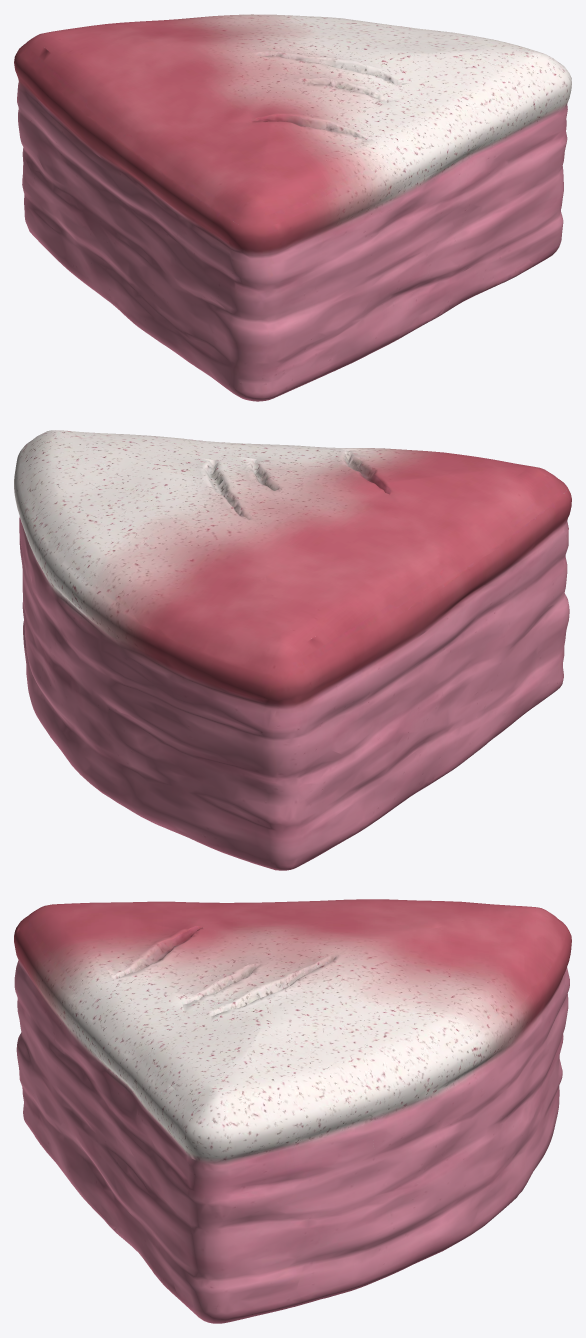
File: scone--beet-fresh.glb
The picture shows the model from 3 angles, top to bottom: view 1: azimuth 30°, elevation 25°; view 2: azimuth 150°, elevation 25°; view 3: azimuth 270°, elevation 25°; orthographic projection. The views are drawn at different scales.
Visible parts, largest first — view 1: scone_beet-fresh; view 2: scone_beet-fresh; view 3: scone_beet-fresh.
Part boxes in pixels (box(x1,y1,x2,y2)): scone_beet-fresh: box(14, 14, 571, 401); scone_beet-fresh: box(14, 430, 571, 870); scone_beet-fresh: box(14, 899, 571, 1323).
Size of the model in its own units: 0.9393 by 0.4685 by 0.9784.
Materials: 1 (1 with a texture image).
